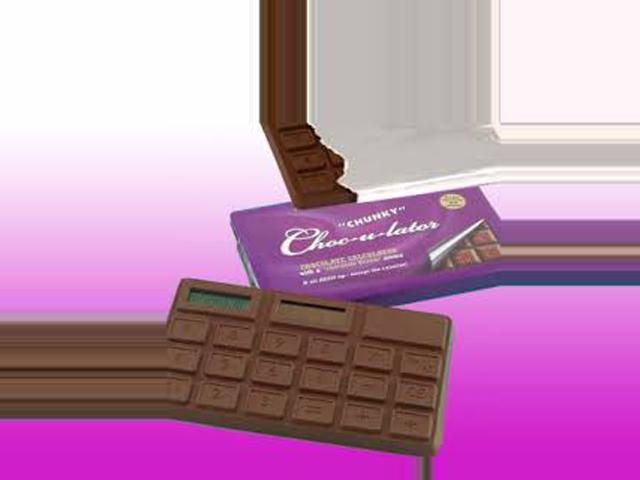chocolate: (175, 272, 447, 458)
